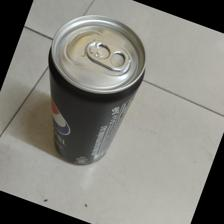Pepsi: (49, 14, 149, 167)
